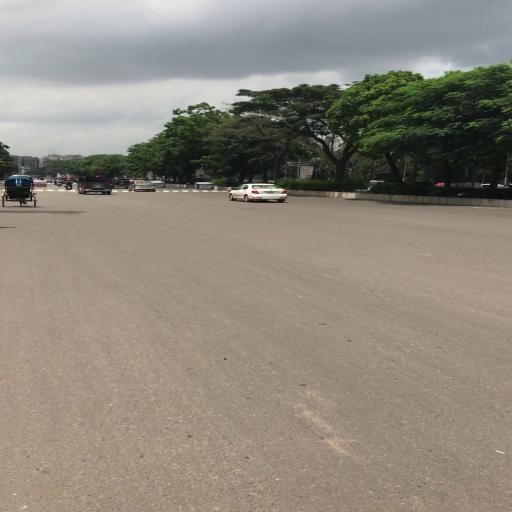car: (228, 183, 289, 204), (128, 182, 157, 193)
motorbike: (63, 179, 75, 191), (56, 179, 62, 188)
rickshaw: (2, 175, 40, 209)
suv: (113, 179, 131, 189)
van: (76, 176, 114, 196)
